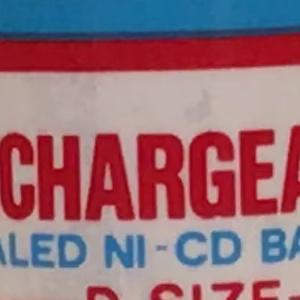NI-CD: (94, 221, 246, 278)
